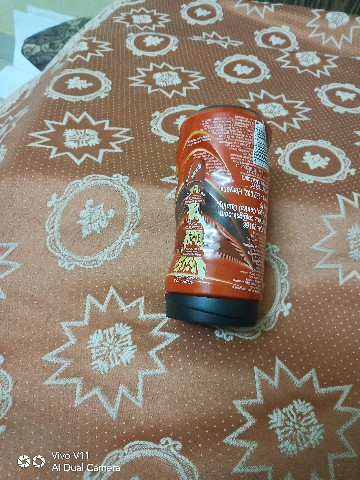boost small: (148, 97, 298, 336)
